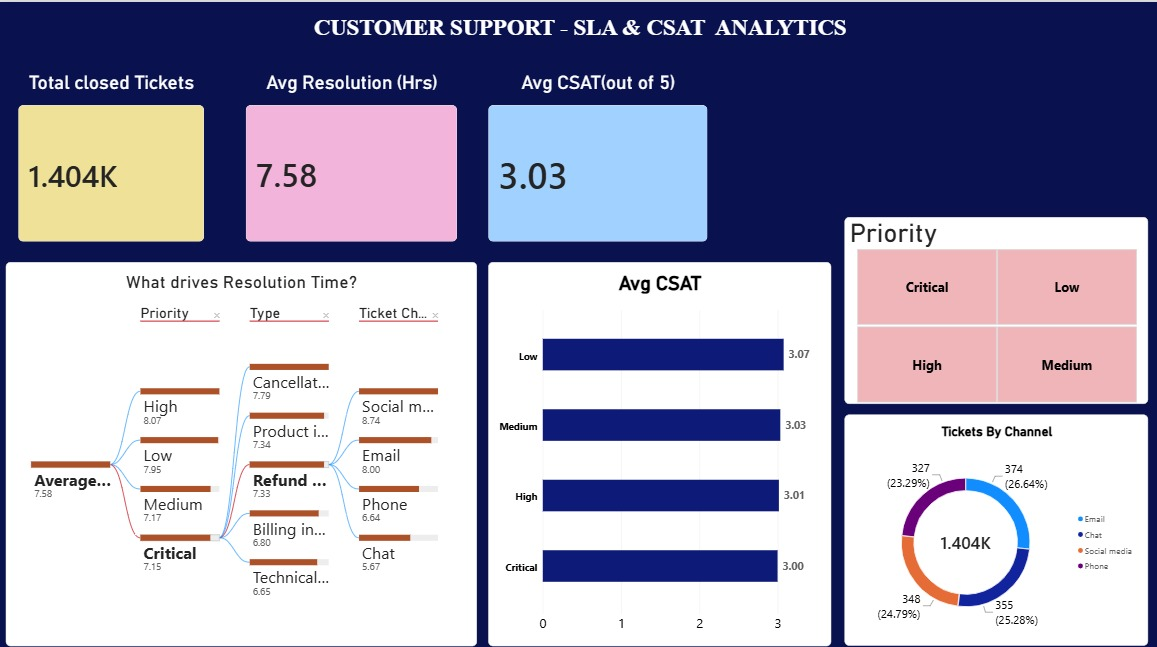

The page's visual inventory and layout, read from the dashboard file:
{"tool":"powerbi","page":{"name":"SLA and CSAT overview","canvas":[1920,1080],"ordinal":0},"visuals":[{"type":"cardVisual","title":"Total closed Tickets","fields":{"Data":["CountNonNull(customer_support_tickets.Ticket ID)"]},"box":[35,115.3,306.7,279.9],"z":0},{"type":"clusteredBarChart","title":"Avg CSAT","fields":{"Category":["customer_support_tickets.Ticket Priority"],"Y":["Avg(customer_support_tickets.Customer Satisfaction Rating)"]},"box":[808.2,427.6,564.5,632.9],"z":2000},{"type":"donutChart","title":"Tickets By Channel","fields":{"Category":["customer_support_tickets.Ticket Channel"],"Y":["CountNonNull(customer_support_tickets.Ticket ID)"]},"box":[1396.2,679.9,500.3,380.6],"z":2001},{"type":"decompositionTreeVisual","title":"What drives Resolution Time?","fields":{"Analyze":["Avg(customer_support_tickets.Resolution Hours)"],"ExplainBy":["customer_support_tickets.Ticket Priority","customer_support_tickets.Ticket Type","customer_support_tickets.Ticket Channel"]},"box":[15,427.6,776.1,632.9],"z":2003},{"type":"textbox","box":[35,0,514.6,158.5],"z":2004},{"type":"textbox","box":[0,0,1920.4,109.1],"z":2005},{"type":"cardVisual","title":"Avg Resolution (Hrs)","fields":{"Data":["Avg(customer_support_tickets.Resolution Hours)"]},"box":[410.5,115.5,348.5,280.1],"z":2006},{"type":"cardVisual","title":"Avg CSAT(out of 5)","fields":{"Data":["Avg(customer_support_tickets.Customer Satisfaction Rating)"]},"box":[808.2,115.5,361.3,280.1],"z":2007},{"type":"slicer","fields":{"Values":["customer_support_tickets.Priority"]},"box":[1396.2,354.9,500.3,307.9],"z":2008}]}

Visuals, with their boxes in screenshot pixels (x1, y1, x2, y2), scaled from the page's 1920x1080 canvas onto the 1157x647 screenshot:
"Total closed Tickets" cardVisual: 21 69 206 237
"Avg CSAT" clusteredBarChart: 487 256 827 635
"Tickets By Channel" donutChart: 841 407 1143 635
"What drives Resolution Time?" decompositionTreeVisual: 9 256 477 635
textbox: 21 0 331 95
textbox: 0 0 1156 65
"Avg Resolution (Hrs)" cardVisual: 247 69 457 237
"Avg CSAT(out of 5)" cardVisual: 487 69 705 237
slicer - customer_support_tickets.Priority: 841 213 1143 397
